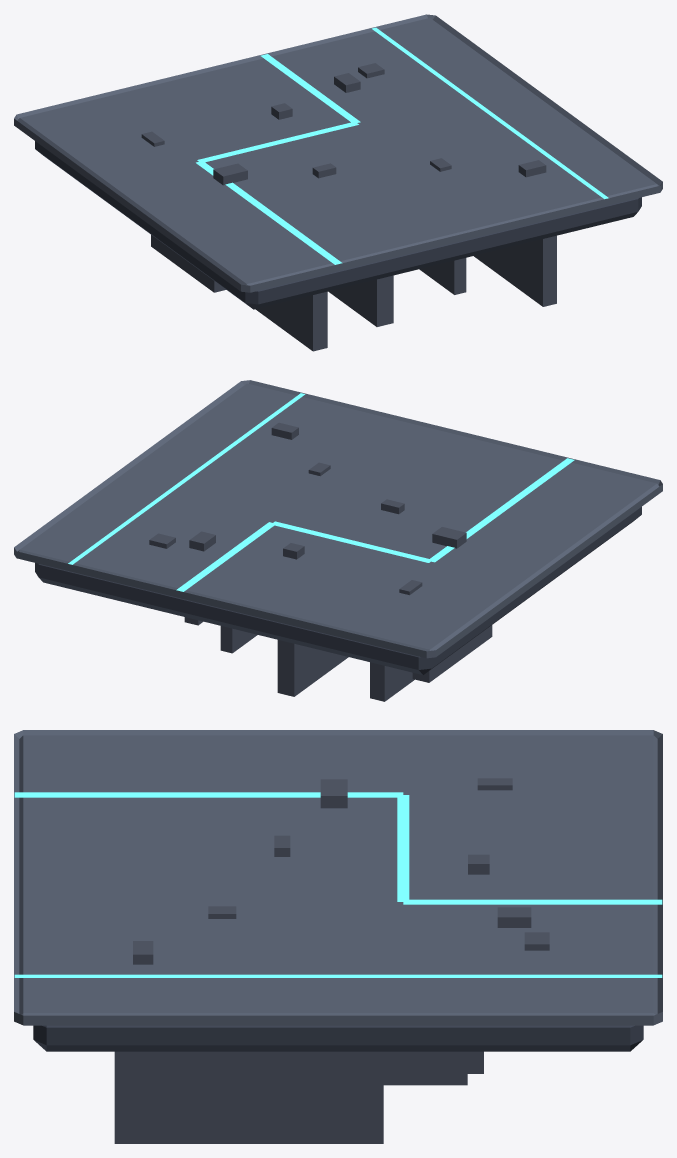
File: platform_portal.glb
3 views of the same model, one above another, from view 1: azimuth 30°, elevation 25°; view 2: azimuth 150°, elevation 25°; view 3: azimuth 270°, elevation 25° (orthographic). The views are drawn at different scales.
Parts seen in each view (by area): view 1: platform_portal; view 2: platform_portal; view 3: platform_portal.
Part boxes in pixels (bbox=[...]): platform_portal: bbox=[14, 14, 662, 351]; platform_portal: bbox=[14, 380, 662, 701]; platform_portal: bbox=[14, 730, 662, 1143].
Bounding box in the file's own units: 5 × 1.78 × 4.8.
